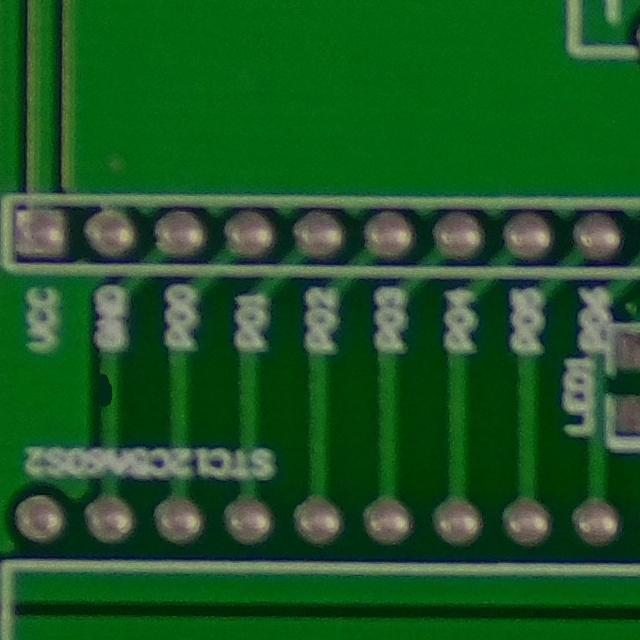mouse_bite: (77, 360, 128, 426)
